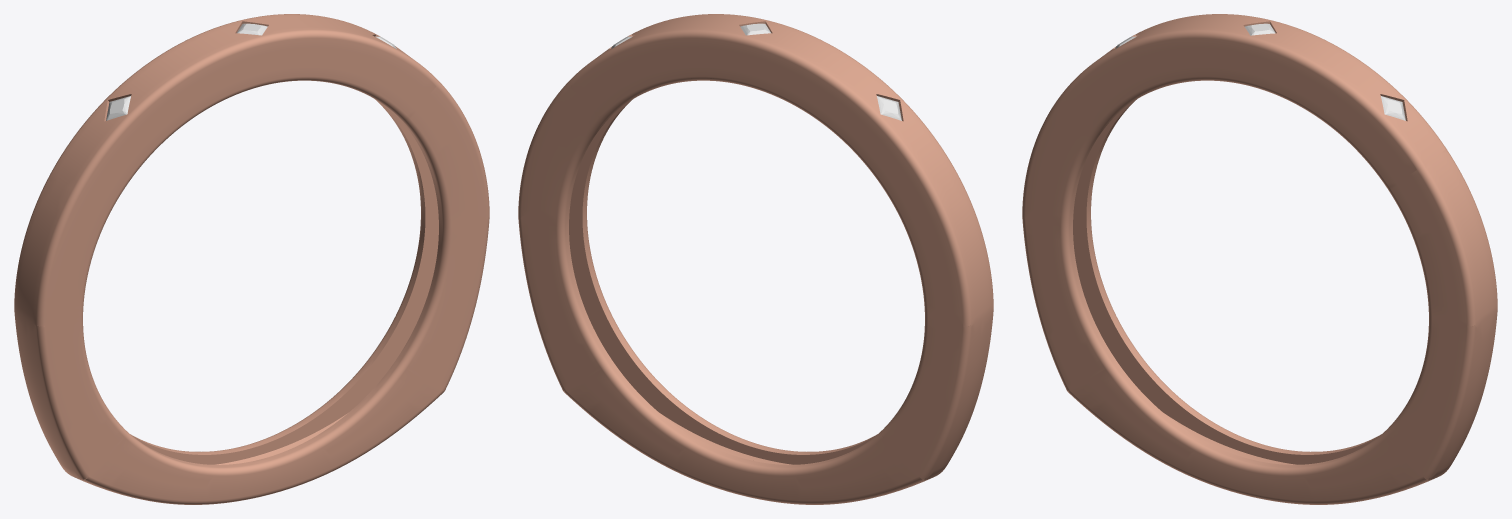
The model's file is KelseyRGdia_blender.glb.
The picture shows the model from 3 angles, left to right: view 1: azimuth 30°, elevation 25°; view 2: azimuth 150°, elevation 25°; view 3: azimuth 330°, elevation 25°; orthographic projection.
Visible parts, largest first — view 1: Kelsey RG for 3d model; view 2: Kelsey RG for 3d model; view 3: Kelsey RG for 3d model.
Boxes of the visible parts, x1,y1,x2,y2 form: Kelsey RG for 3d model: (14,14,489,504); Kelsey RG for 3d model: (518,14,993,504); Kelsey RG for 3d model: (1022,14,1497,504).
Size of the model in its own units: 23.93 by 23.31 by 2.5.
